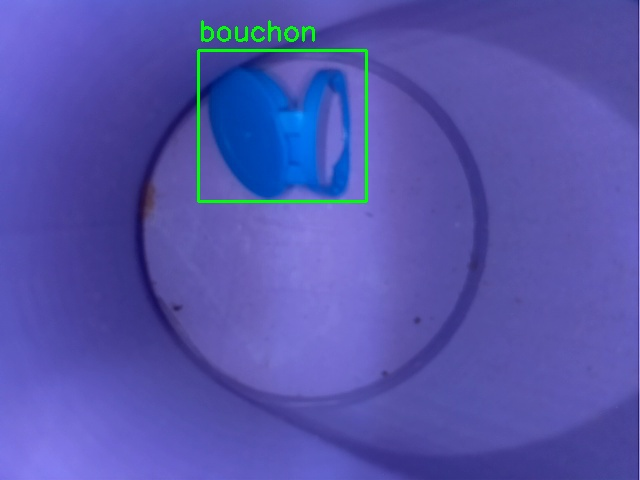bouchon: (198, 50, 366, 201)
